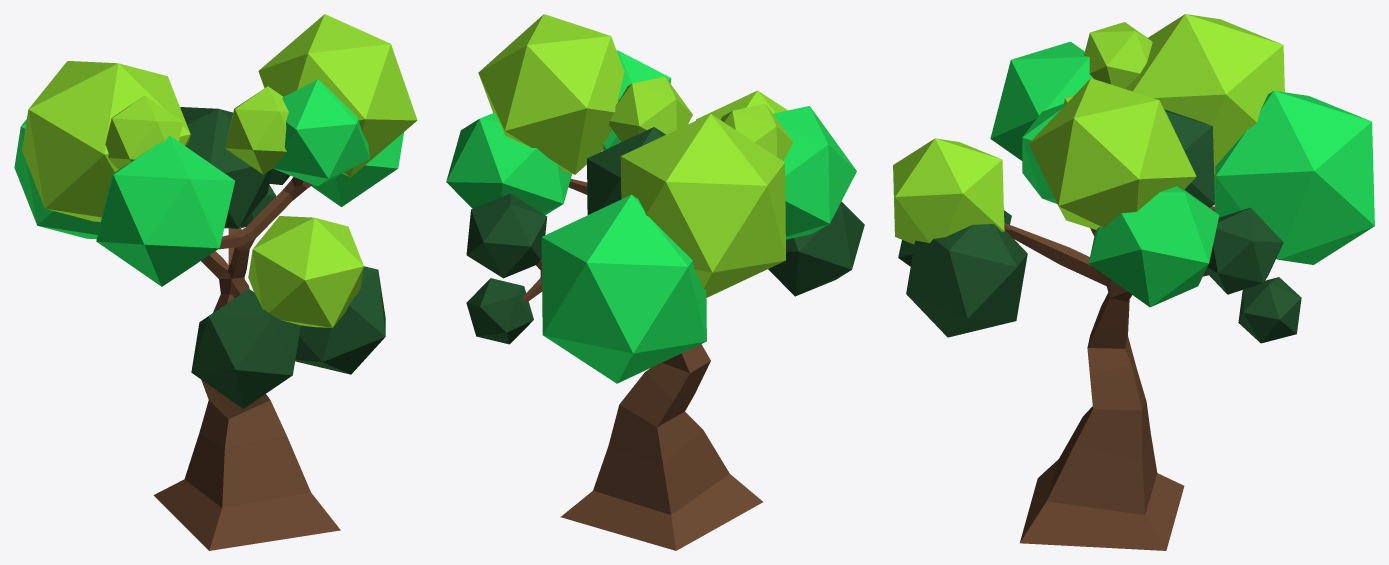
The model's file is lowpolytree.gltf.
The picture shows the model from 3 angles, left to right: view 1: azimuth 30°, elevation 25°; view 2: azimuth 150°, elevation 25°; view 3: azimuth 270°, elevation 25°; orthographic projection. The views are drawn at different scales.
Parts seen in each view (by area): view 1: tree; view 2: tree; view 3: tree.
Boxes of the visible parts, bbox=[...] form: tree: bbox=[14, 14, 417, 550]; tree: bbox=[446, 14, 864, 550]; tree: bbox=[893, 14, 1374, 550].
Size of the model in its own units: 4.15 by 5.27 by 4.9.
Materials: 1 (1 with a texture image).
